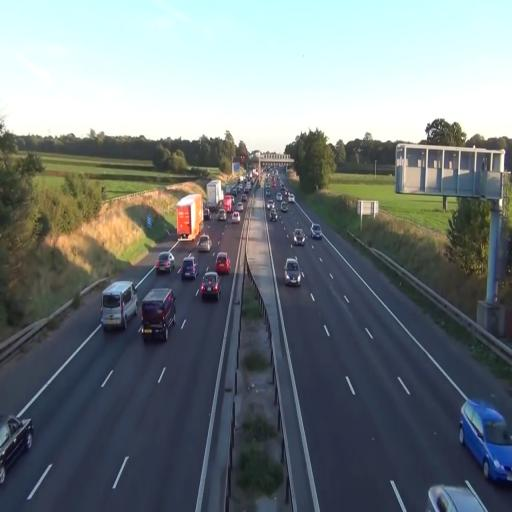vehicle: (459, 398, 512, 484), (459, 400, 511, 482), (0, 416, 34, 486), (0, 416, 33, 484), (139, 288, 176, 342), (140, 287, 176, 342), (100, 280, 138, 332), (427, 480, 488, 512), (101, 280, 138, 331), (102, 281, 138, 330), (142, 289, 175, 342), (176, 190, 205, 243), (427, 485, 486, 511), (177, 195, 203, 240), (199, 270, 220, 301), (201, 272, 221, 302), (284, 256, 302, 286), (155, 252, 177, 276), (207, 180, 223, 208), (180, 256, 197, 281), (181, 256, 198, 280), (156, 252, 175, 273), (156, 252, 174, 274), (285, 259, 300, 285), (215, 251, 230, 275), (216, 252, 230, 274), (198, 233, 211, 252), (198, 235, 211, 252), (292, 228, 304, 246), (294, 228, 306, 246), (267, 203, 277, 222), (311, 224, 322, 239), (311, 222, 321, 238), (224, 195, 232, 212), (218, 209, 226, 221), (270, 208, 277, 221), (232, 212, 240, 223), (204, 208, 210, 220), (231, 187, 238, 197), (267, 200, 274, 209), (281, 202, 287, 212), (225, 184, 231, 194), (288, 194, 294, 203), (237, 202, 243, 211), (276, 192, 282, 201), (280, 184, 286, 192), (239, 175, 245, 183), (246, 181, 251, 190), (238, 184, 243, 192), (266, 188, 271, 196), (244, 187, 249, 194), (242, 194, 247, 201), (284, 189, 289, 196), (272, 181, 276, 187)
